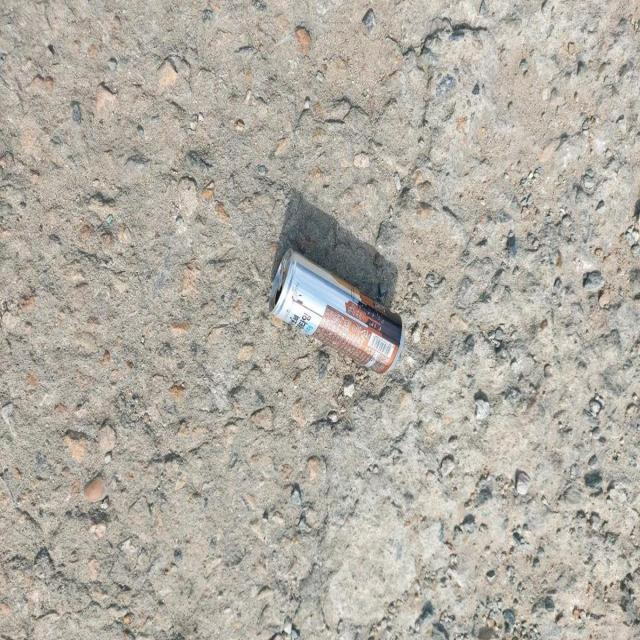can: (270, 249, 404, 374)
